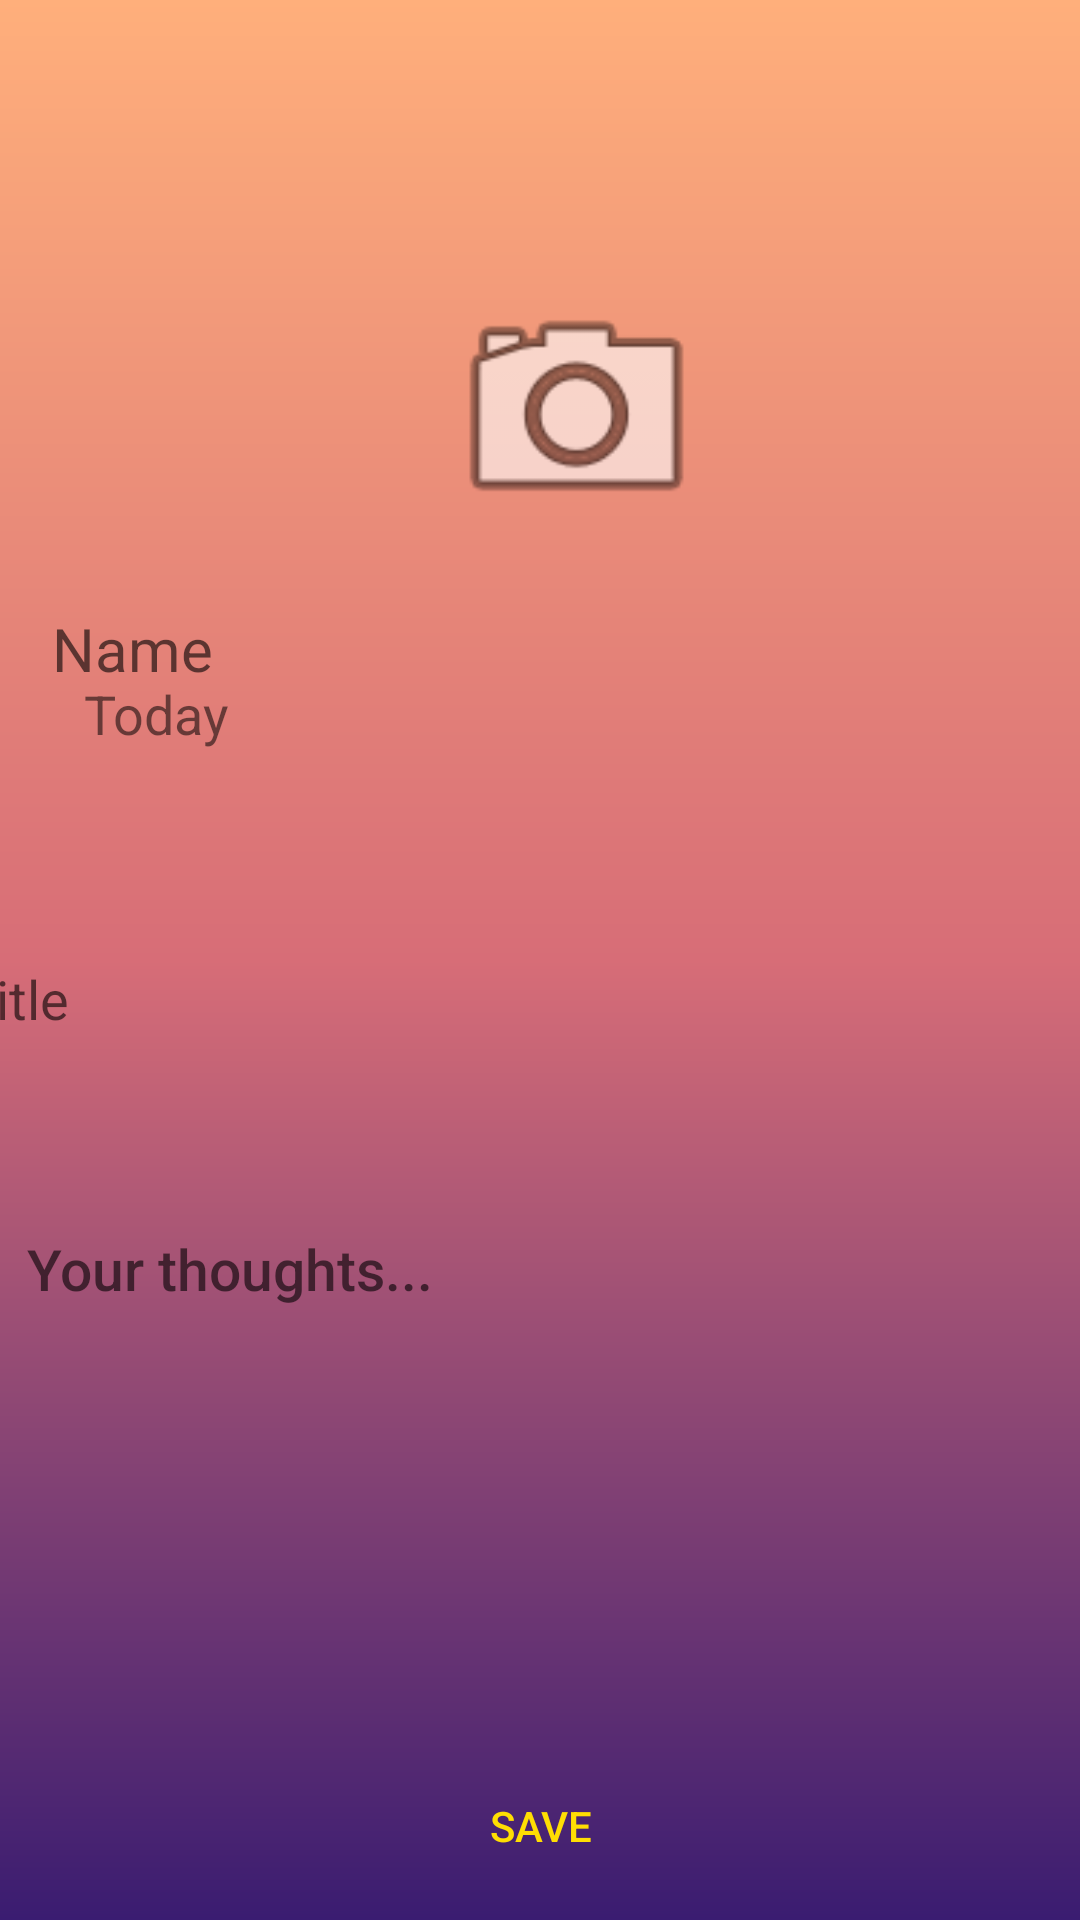

Icon click points for this 1080*1920 phone screenshot, format (x,y):
camera: (576,406)
